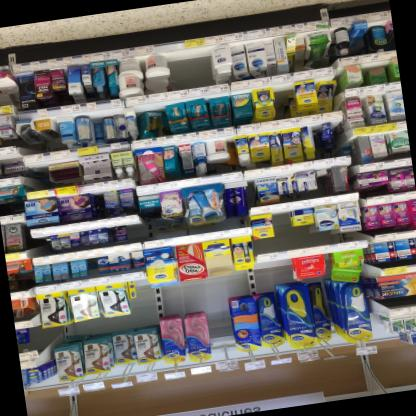empty_space: (175, 44, 210, 86), (254, 255, 291, 285), (273, 209, 289, 235)
